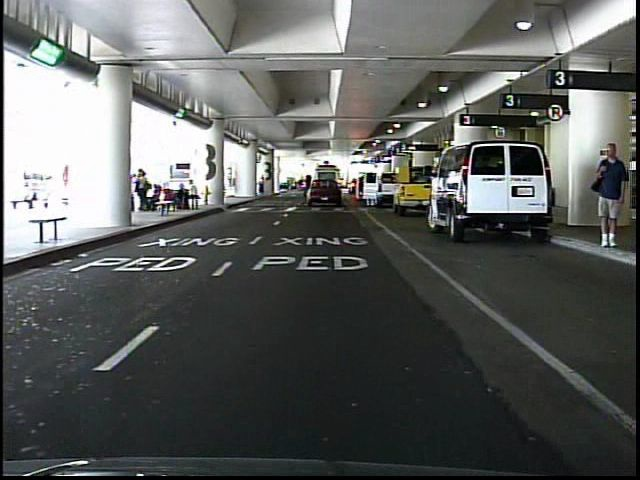person: (589, 139, 626, 251), (258, 171, 270, 196)
